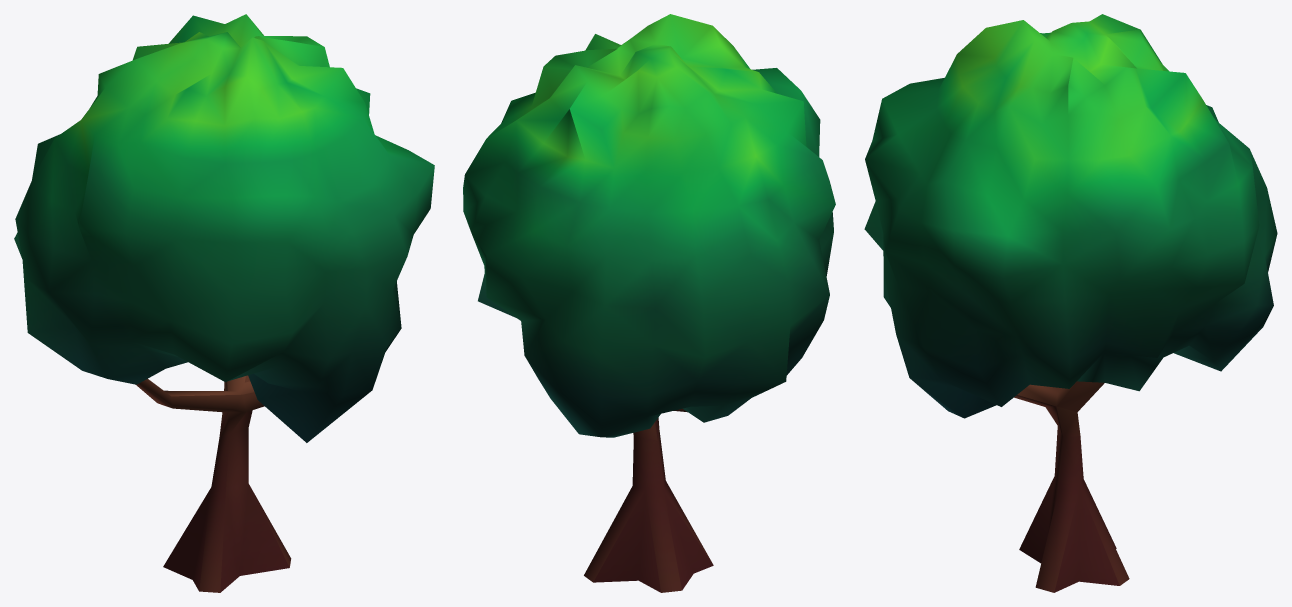
The model's file is Tree_2I.fbx.
3 renders of one model, left to right at view 1: azimuth 30°, elevation 25°; view 2: azimuth 150°, elevation 25°; view 3: azimuth 270°, elevation 25°, orthographic.
Visible parts, largest first — view 1: Tree_2I; view 2: Tree_2I; view 3: Tree_2I.
Part boxes in pixels (x1,y1,x2,y2): Tree_2I: (14,14,434,592); Tree_2I: (463,14,835,592); Tree_2I: (864,14,1277,592).
Size of the model in its own units: 6.85 by 10.33 by 7.08.
